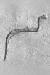I10: (5, 1, 45, 75)
